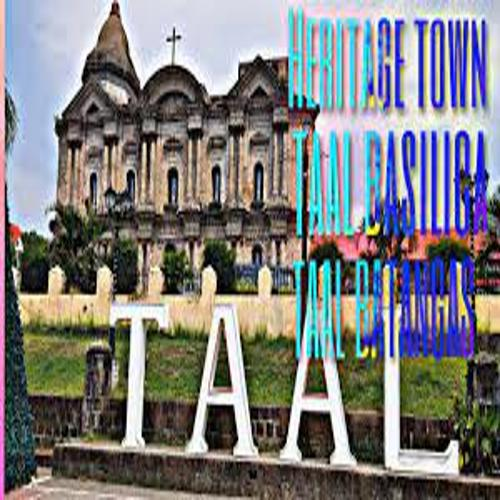Taal Basilica Church: (42, 1, 336, 316)
